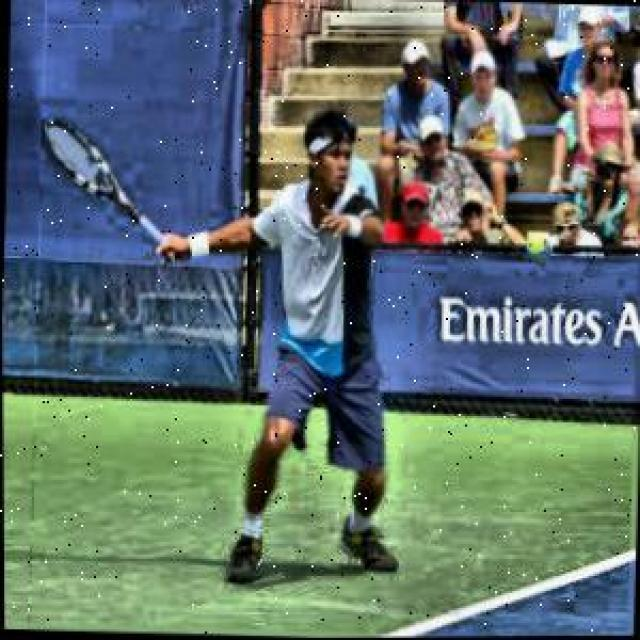tennis-ball: (528, 234, 554, 264)
